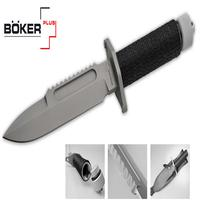knife: (1, 15, 190, 148)
